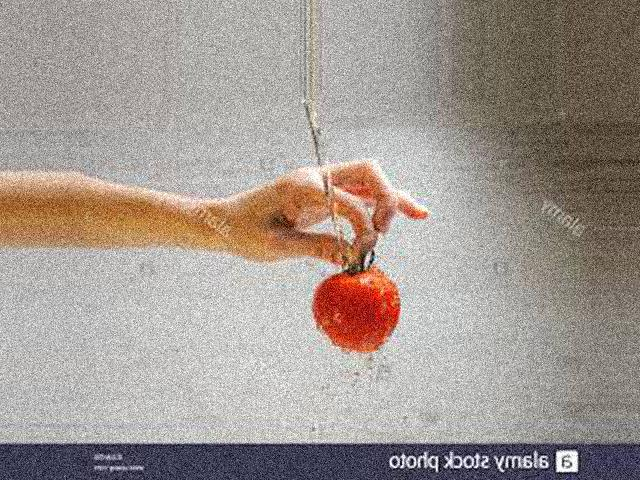tomato: (309, 270, 397, 354)
